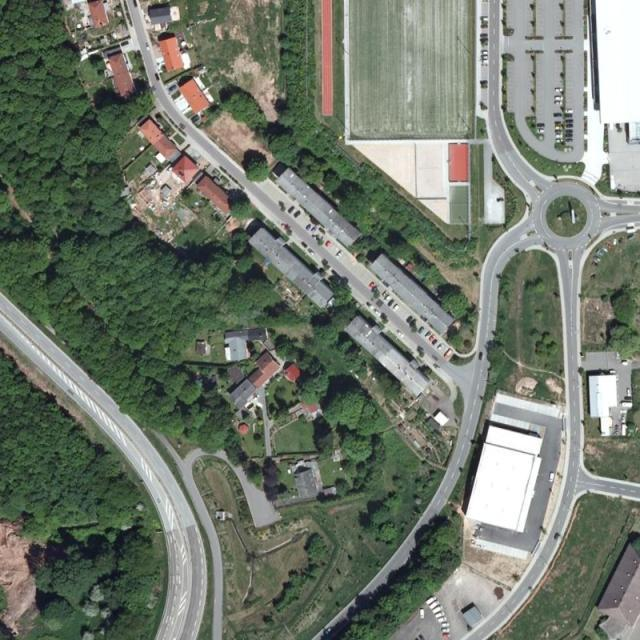vehicle: (431, 605, 444, 615), (620, 401, 633, 410), (429, 600, 440, 610), (426, 596, 437, 606), (445, 349, 454, 359), (434, 612, 445, 619), (392, 304, 400, 313), (432, 394, 441, 402), (436, 343, 445, 351), (425, 331, 433, 340), (336, 250, 344, 259), (307, 247, 315, 256), (287, 206, 296, 214), (168, 85, 178, 92), (433, 363, 441, 371), (428, 334, 436, 342), (431, 354, 439, 362), (406, 315, 414, 323), (374, 310, 382, 318), (366, 302, 374, 310), (387, 299, 395, 307), (383, 295, 391, 303), (318, 226, 326, 234), (324, 240, 332, 248), (310, 226, 318, 234), (294, 210, 302, 218), (438, 617, 448, 623), (549, 473, 555, 483), (431, 338, 438, 346), (397, 331, 405, 338), (418, 327, 425, 335), (382, 290, 389, 298), (301, 241, 308, 249), (306, 223, 313, 231), (282, 223, 289, 231), (554, 533, 561, 541), (369, 282, 376, 290), (155, 73, 161, 82), (121, 41, 130, 47), (441, 622, 450, 628), (478, 352, 483, 362), (420, 609, 425, 619), (480, 80, 489, 85), (418, 634, 425, 640), (372, 286, 378, 293), (554, 96, 564, 100), (442, 628, 450, 633), (146, 42, 150, 51), (480, 38, 489, 42), (480, 34, 489, 38), (555, 88, 564, 92), (554, 101, 563, 105), (555, 130, 564, 134), (442, 634, 451, 638), (537, 123, 545, 127), (537, 130, 545, 134), (481, 55, 489, 59), (481, 25, 489, 29), (554, 114, 562, 118), (566, 130, 574, 134), (566, 139, 574, 143), (556, 139, 564, 143), (556, 134, 564, 138), (555, 126, 563, 130), (481, 51, 488, 55), (566, 110, 573, 114), (566, 114, 573, 118), (566, 134, 573, 138), (480, 60, 489, 63), (566, 120, 574, 123), (566, 125, 574, 128)
